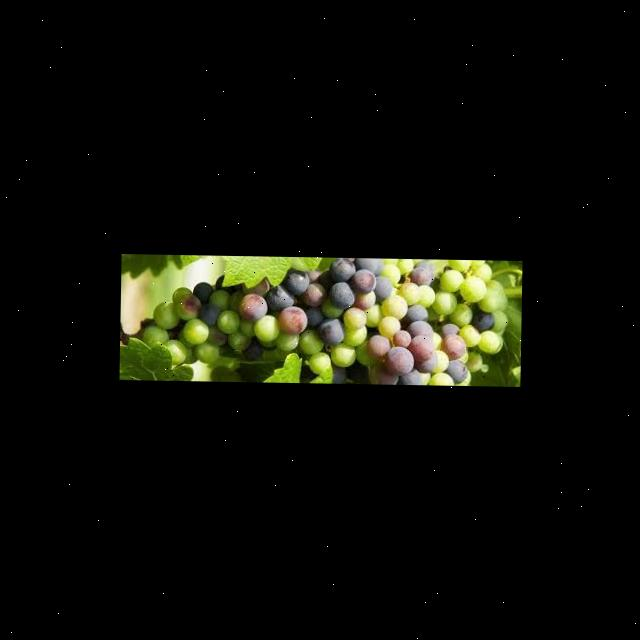grape: (120, 254, 510, 386)
